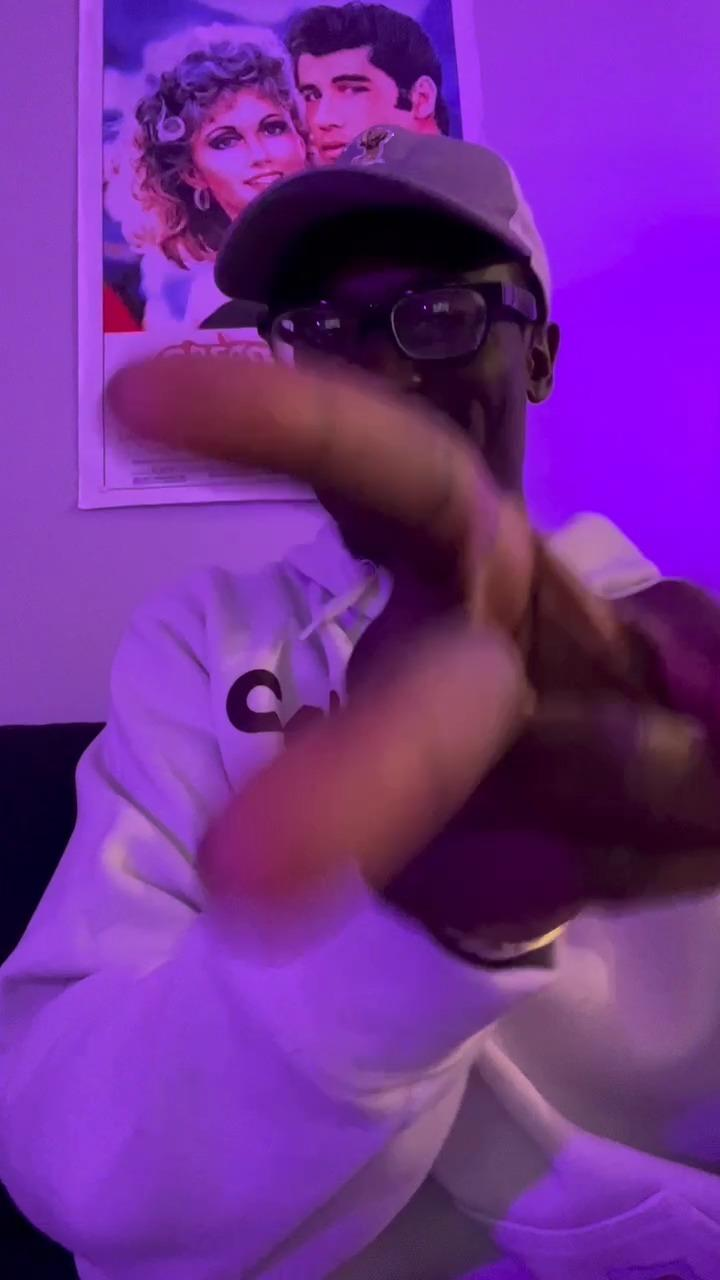Scissors: (96, 342, 720, 938)
